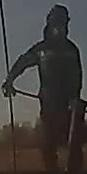gloves: (68, 92, 83, 115), (0, 78, 16, 99)
vest: (37, 39, 83, 123)
